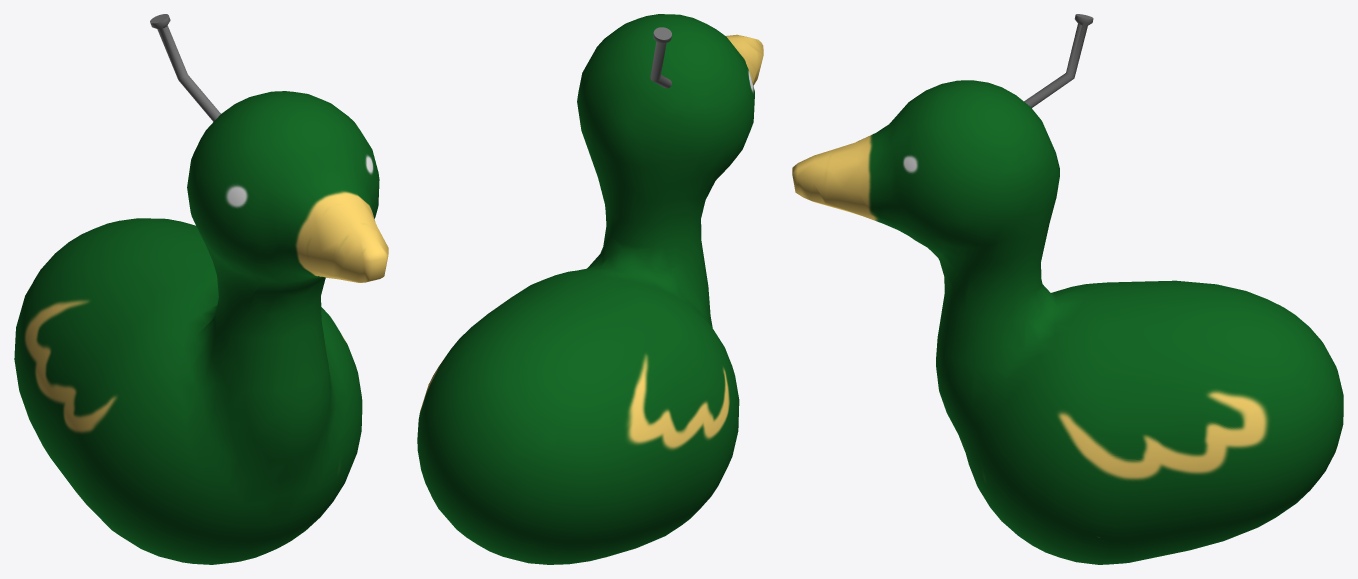
File: odduck.glb
3 views of the same model, side by side, from view 1: azimuth 30°, elevation 25°; view 2: azimuth 150°, elevation 25°; view 3: azimuth 270°, elevation 25° (orthographic). The views are drawn at different scales.
Parts seen in each view (by area): view 1: Mball.005, Cylinder; view 2: Mball.005, Cylinder; view 3: Mball.005, Cylinder.
Part boxes in pixels (<box>): Mball.005: <box>14,91,388,564</box>; Cylinder: <box>150,14,220,121</box>; Mball.005: <box>417,14,763,564</box>; Cylinder: <box>650,27,671,88</box>; Mball.005: <box>792,80,1343,564</box>; Cylinder: <box>1024,14,1093,107</box>.
Size of the model in its own units: 4.95 by 9.91 by 9.69.
2 materials, 1 textured.
